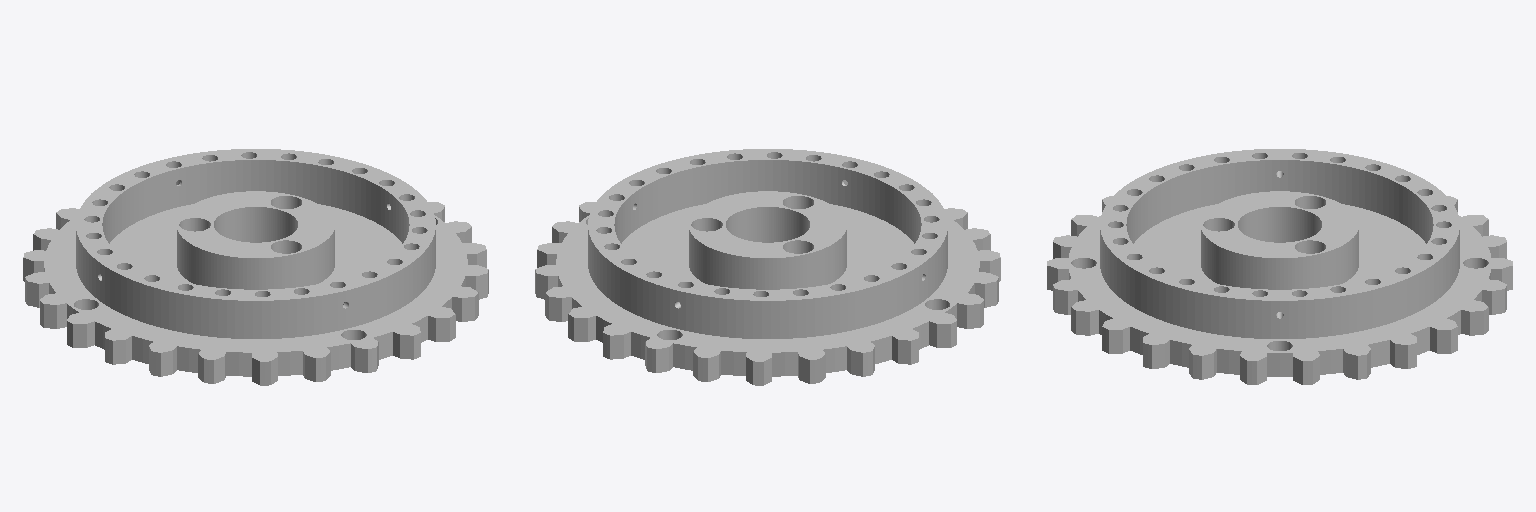
The model's file is ratchet_wheel.obj.
The picture shows the model from 3 angles: view 1: azimuth 30°, elevation 25°; view 2: azimuth 150°, elevation 25°; view 3: azimuth 270°, elevation 25°; orthographic projection.
Visible parts, largest first — view 1: upper_Cylinder, Gear_Gear.003, midddlerasied_Cylinder.008; view 2: upper_Cylinder, Gear_Gear.003, midddlerasied_Cylinder.008; view 3: upper_Cylinder, Gear_Gear.003, midddlerasied_Cylinder.008.
Boxes of the visible parts, x1=… form: upper_Cylinder: x1=76, y1=149, x2=435, y2=338; Gear_Gear.003: x1=23, y1=193, x2=488, y2=385; midddlerasied_Cylinder.008: x1=177, y1=191, x2=334, y2=289; upper_Cylinder: x1=588, y1=149, x2=947, y2=338; Gear_Gear.003: x1=535, y1=193, x2=1000, y2=385; midddlerasied_Cylinder.008: x1=689, y1=191, x2=846, y2=289; upper_Cylinder: x1=1100, y1=149, x2=1459, y2=338; Gear_Gear.003: x1=1047, y1=196, x2=1512, y2=384; midddlerasied_Cylinder.008: x1=1201, y1=191, x2=1358, y2=289.
Size of the model in its own units: 4.38 by 0.65 by 4.4.